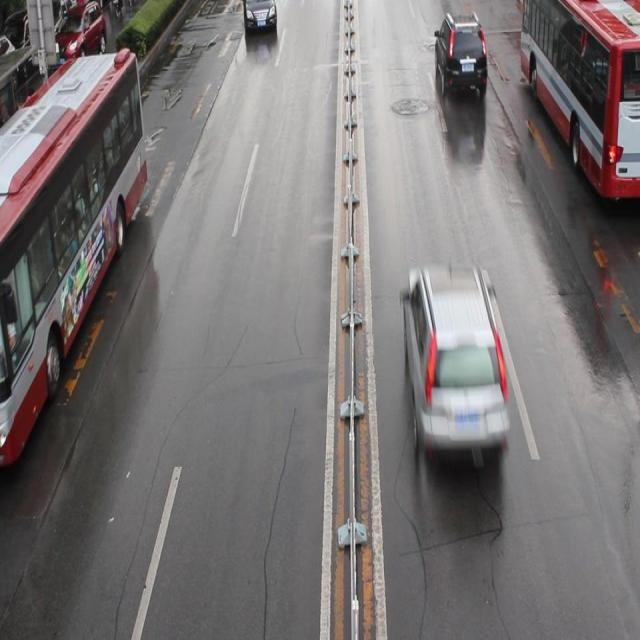car: (402, 265, 506, 453), (433, 10, 487, 93), (52, 1, 107, 65), (242, 1, 275, 33)
van: (1, 48, 149, 471), (521, 1, 640, 204)
